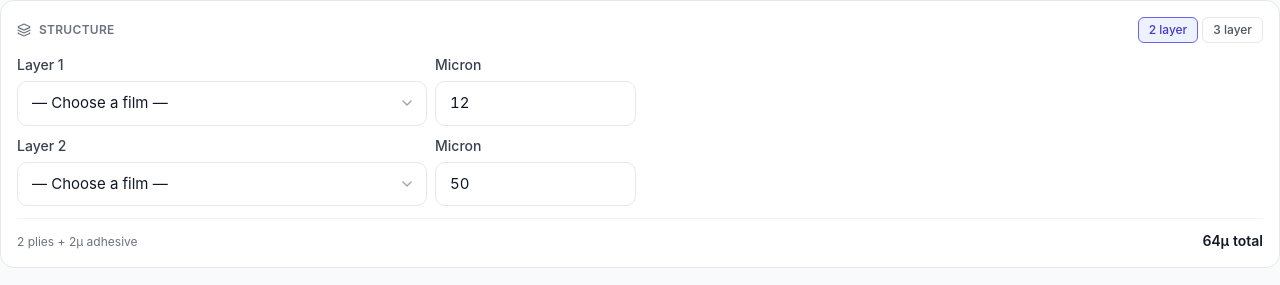
Test: LayerFields › says how far this job is from the list when the two differ
Select "PET" in the dropdown labelled "Layer 1" at (222, 103), box left=17, top=81, right=427, bottom=126
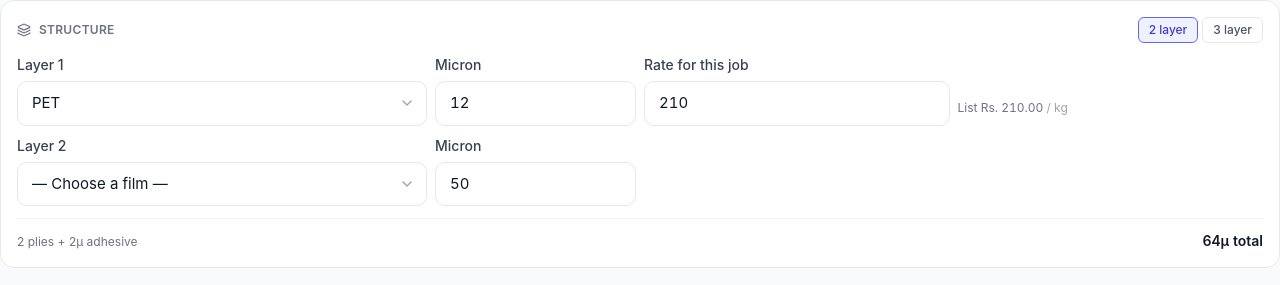
Replace the text in the field labelled "Rate for this job" with "190" at (797, 103), box left=644, top=81, right=950, bottom=126
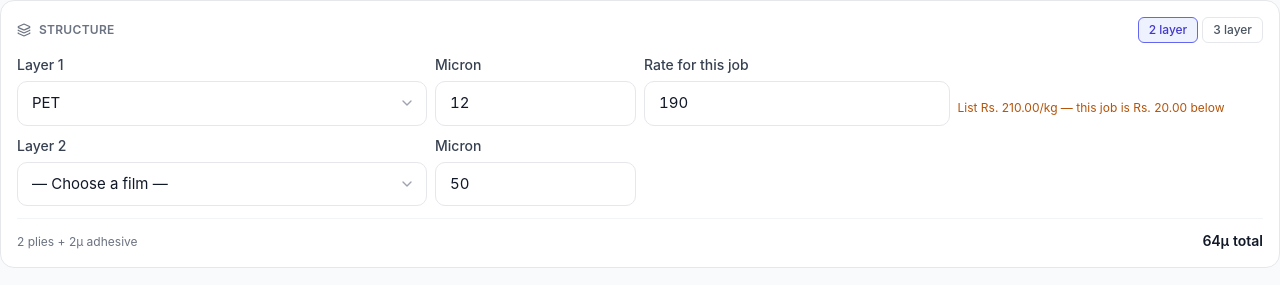
expect the text "List Rs. 210.00" is shown: met, box left=958, top=100, right=1224, bottom=114
expect the text "Rs. 20.00 below" is shown: met, box left=958, top=100, right=1224, bottom=114
